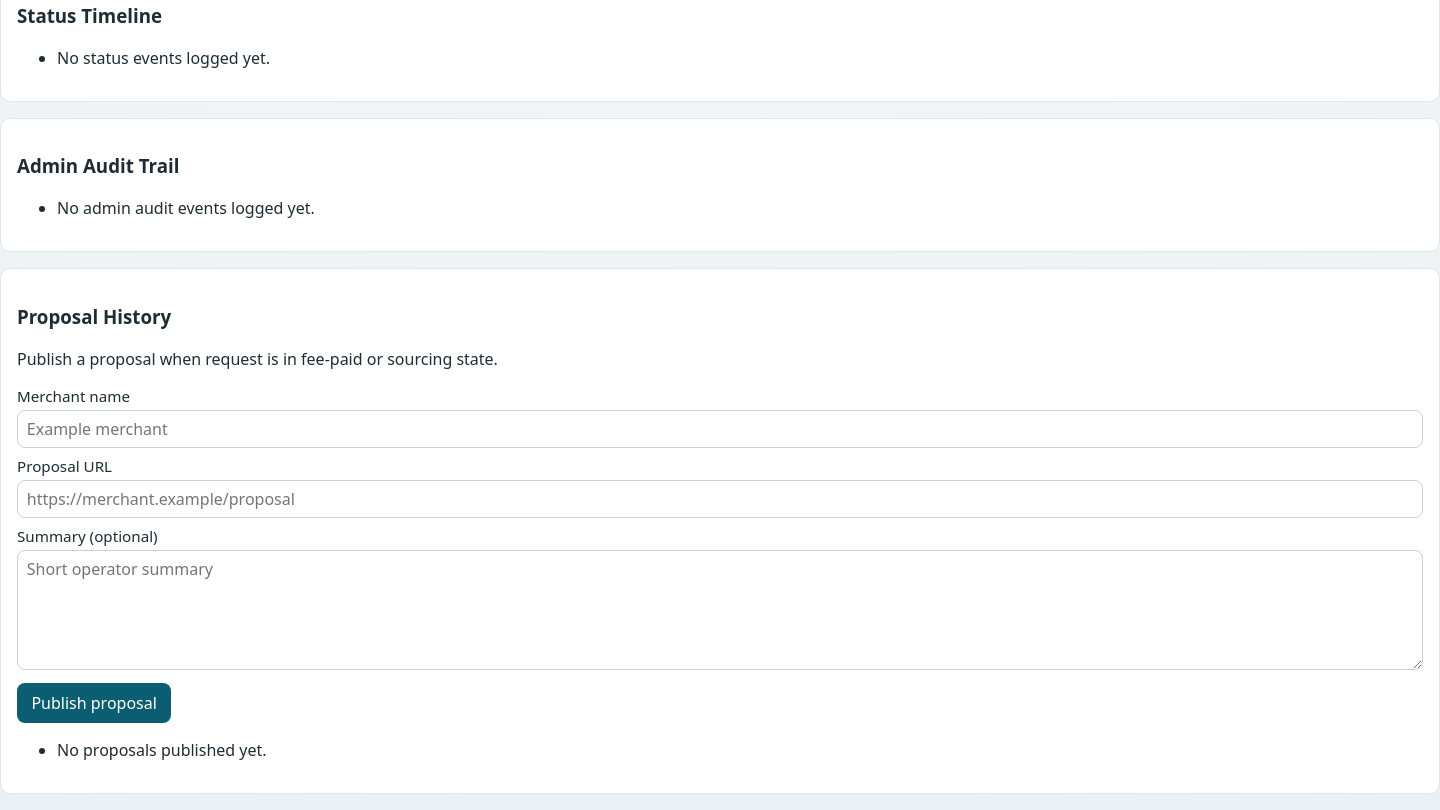
Test: OperatorRequestDetailPage › shows explicit conflict error when proposal publish is no longer allowed
The image size is (1440, 810).
(page scrolled)
Expected: the button "Publish proposal" is shown, [17,683,171,723]
In the field labelled "Merchant name": (720, 429) [17,410,1423,448], type "Prime Mobility"
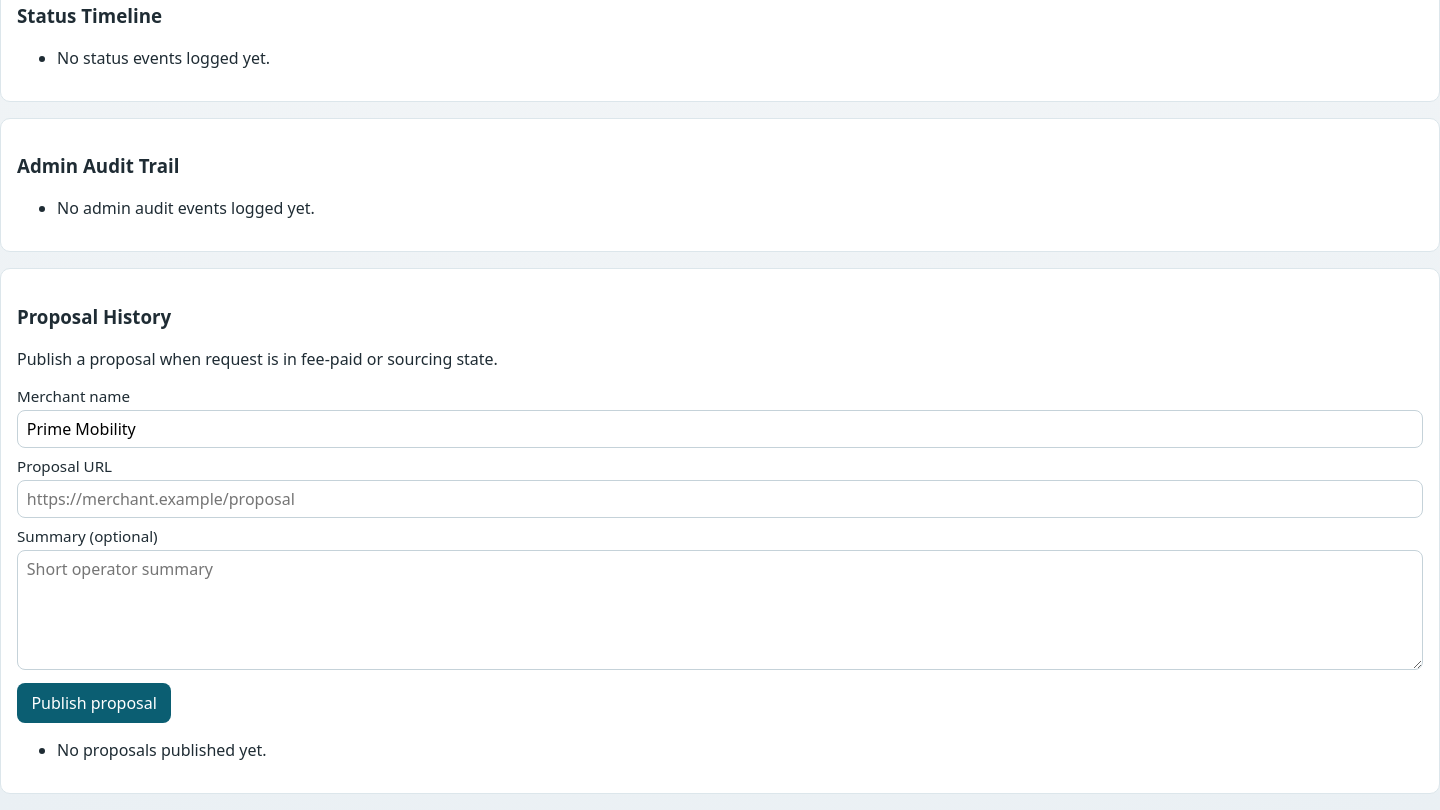
In the field labelled "Proposal URL": (720, 499) [17,480,1423,518], type "https://merchant.example/p/10"
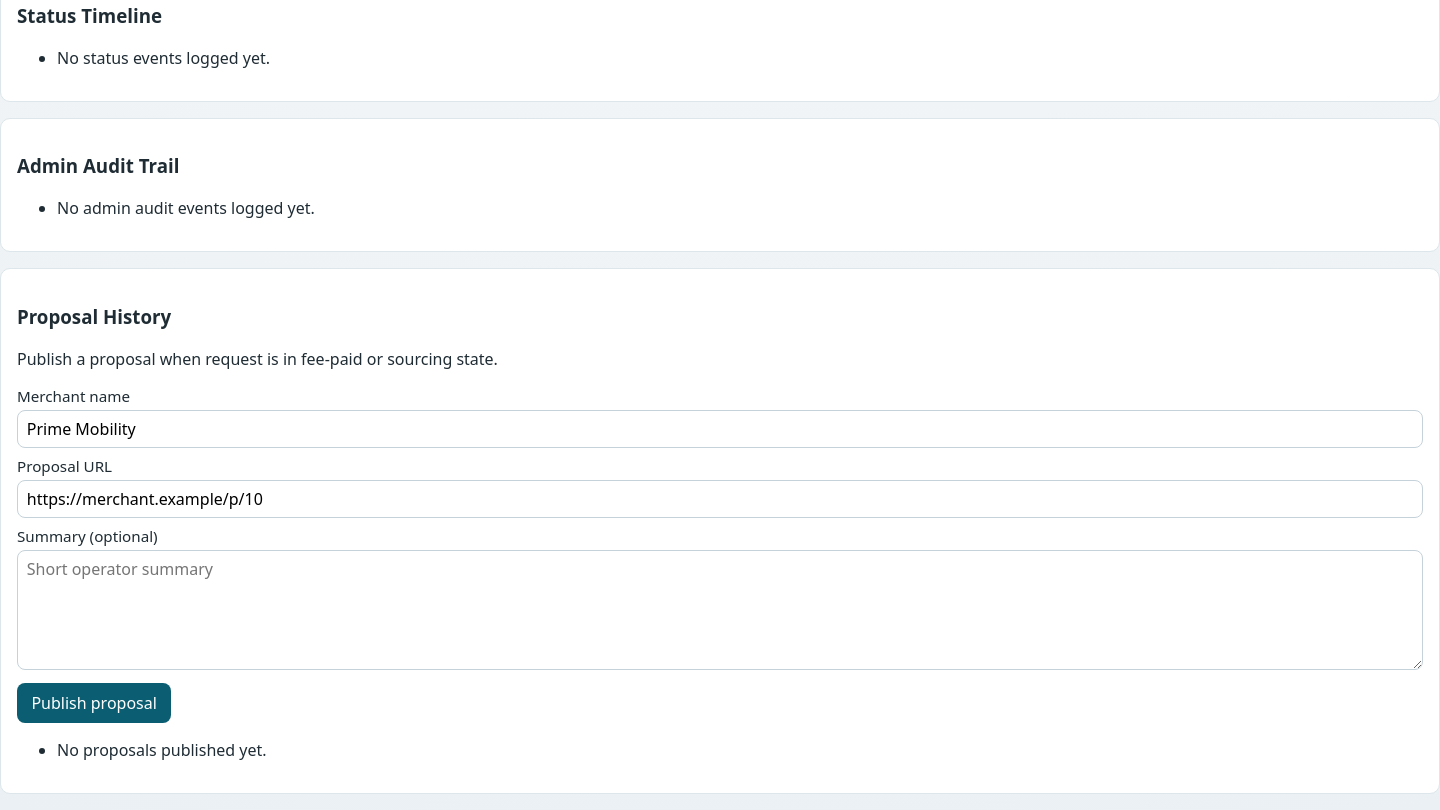
Click the button "Publish proposal": (94, 703) [17,683,171,723]
(page scrolled)
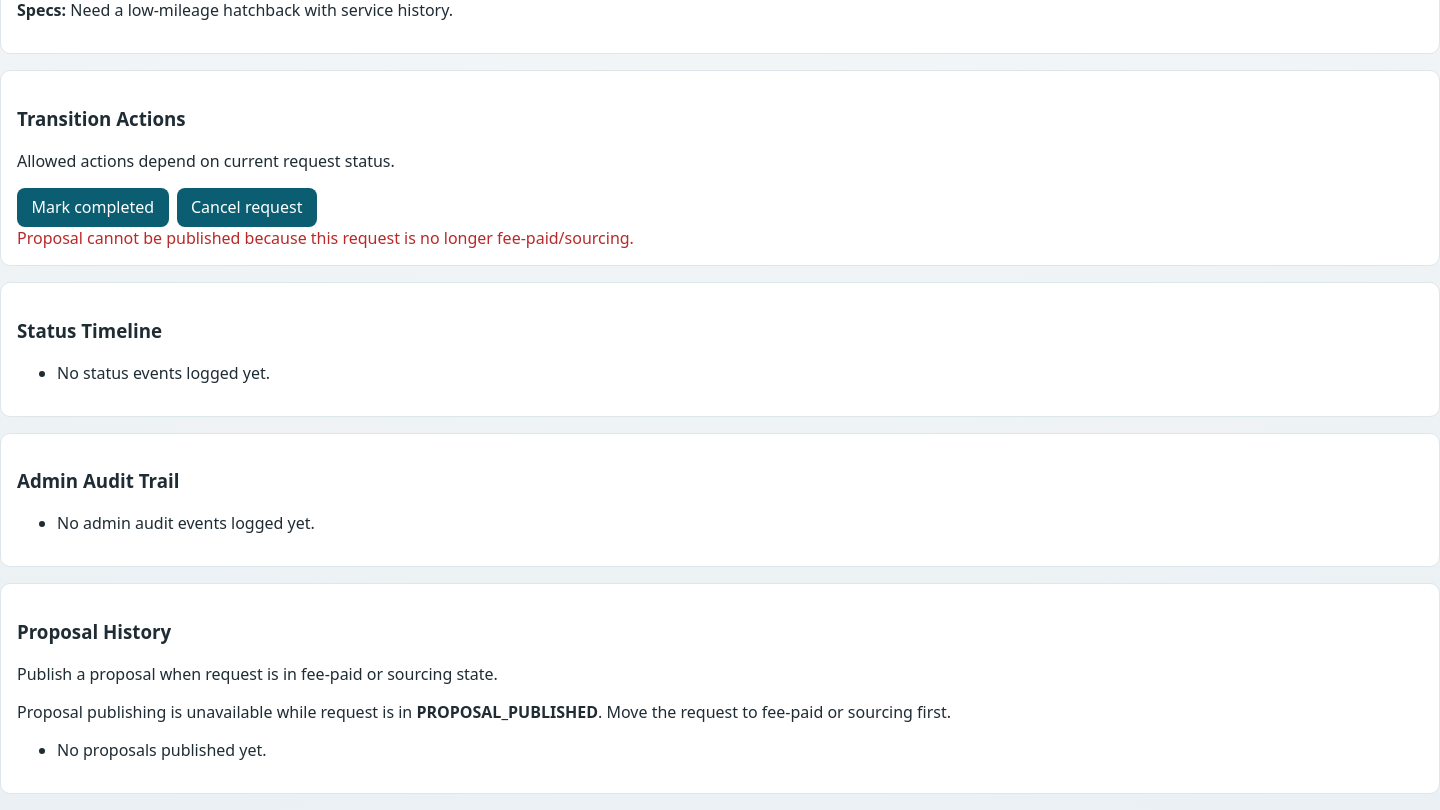
Expected: the text "Proposal cannot be published because this request is no longer fee-paid/sourcing." is shown, [17,227,634,249]
